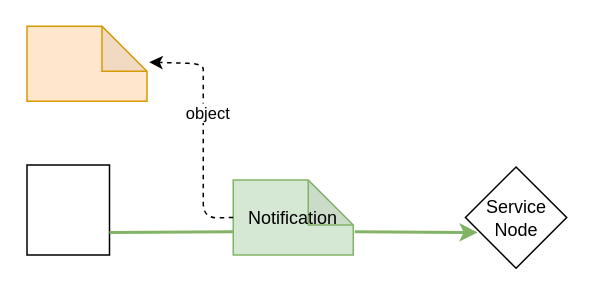
The diagram is 593 pixels wide and 296 high, and some of its shapes have lost their labels. Each missing label, with the centre of its shape:
"Artifact" goes at (86,63).
"Data node" goes at (68,209).
